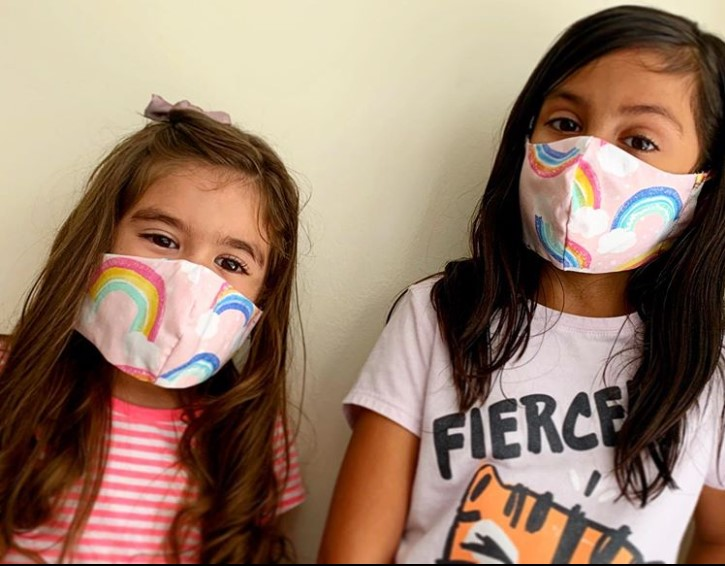face_with_mask: (69, 126, 294, 392), (505, 10, 723, 283)
